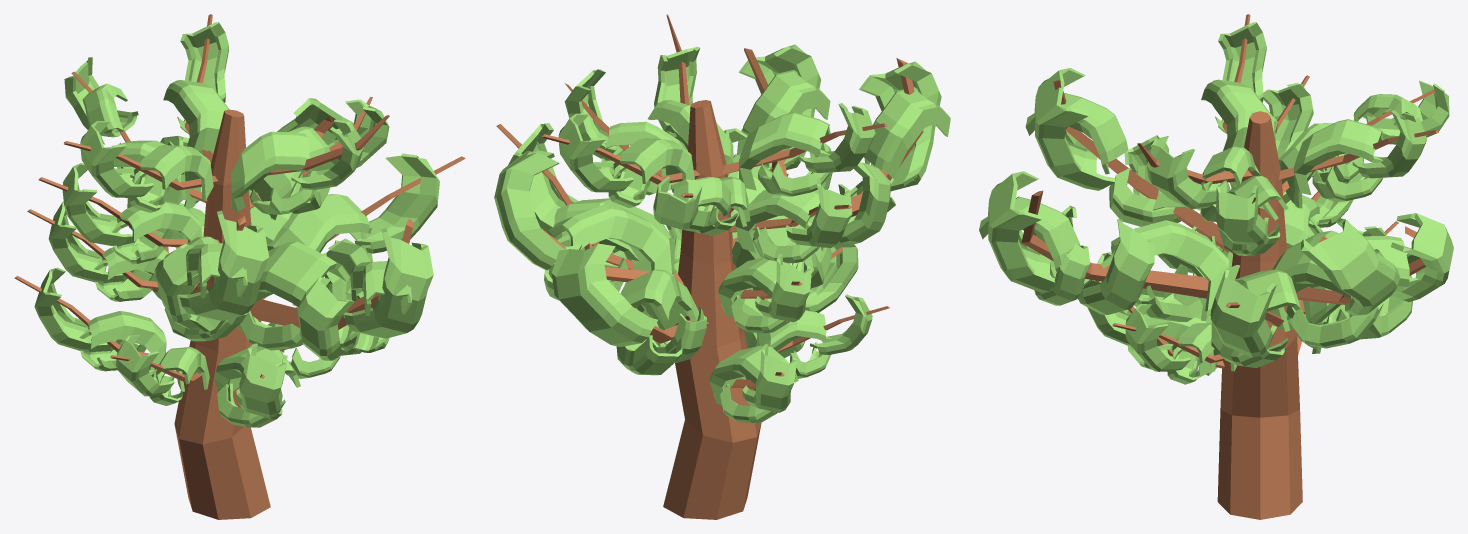
File: Árbol 3.fbx
The picture shows the model from 3 angles, left to right: view 1: azimuth 30°, elevation 25°; view 2: azimuth 150°, elevation 25°; view 3: azimuth 270°, elevation 25°; orthographic projection. The views are drawn at different scales.
Parts seen in each view (by area): view 1: Plane.014; view 2: Plane.014; view 3: Plane.014.
Boxes of the visible parts, box(x1,y1,x2,y2) form: Plane.014: box(14, 14, 465, 519); Plane.014: box(494, 14, 950, 519); Plane.014: box(979, 14, 1453, 519).
Size of the model in its own units: 1060 by 1074 by 1115.
